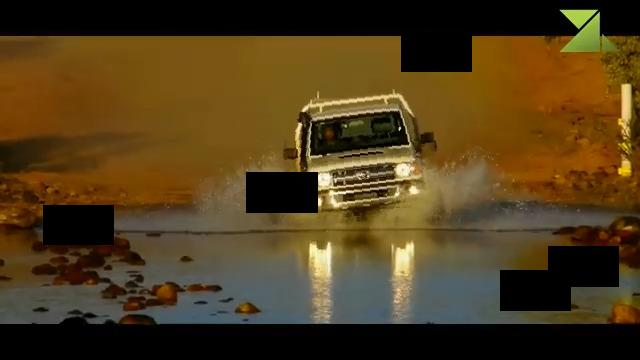MIL_HMMWV: (280, 90, 440, 216)
